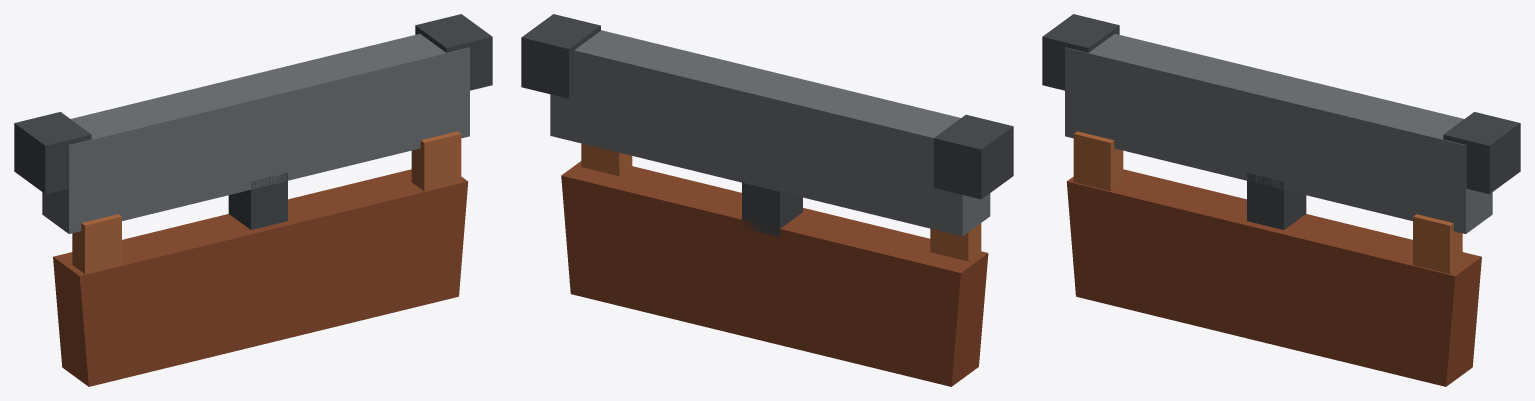
Rendered from mod_helmet_visor.glb.
The picture shows the model from 3 angles, left to right: view 1: azimuth 30°, elevation 25°; view 2: azimuth 150°, elevation 25°; view 3: azimuth 330°, elevation 25°; orthographic projection. The views are drawn at different scales.
Visible parts, largest first — view 1: visor; view 2: visor; view 3: visor.
Boxes of the visible parts, x1,y1,x2,y2 form: visor: (14,14,492,386); visor: (521,14,1013,386); visor: (1042,14,1520,386).
Bounding box in the file's own units: 0.29 × 0.153 × 0.0405.
